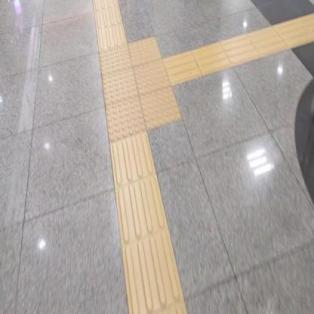Podoctatil: (74, 24, 196, 160), (110, 145, 187, 313), (175, 12, 314, 89), (93, 0, 127, 44)
